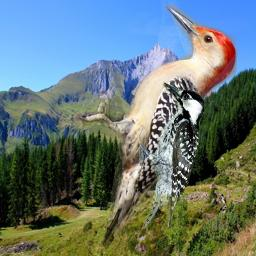Woodpecker: (76, 5, 241, 251), (139, 81, 204, 231)
